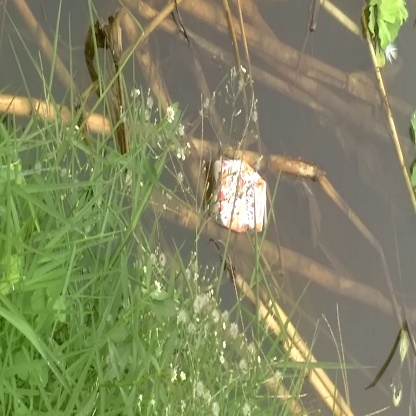milk-box: (205, 152, 272, 238)
